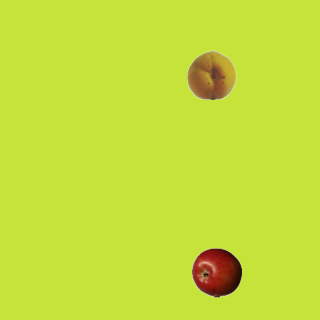Apple Braeburn: (191, 247, 241, 297)
Peach 2: (186, 49, 236, 99)
